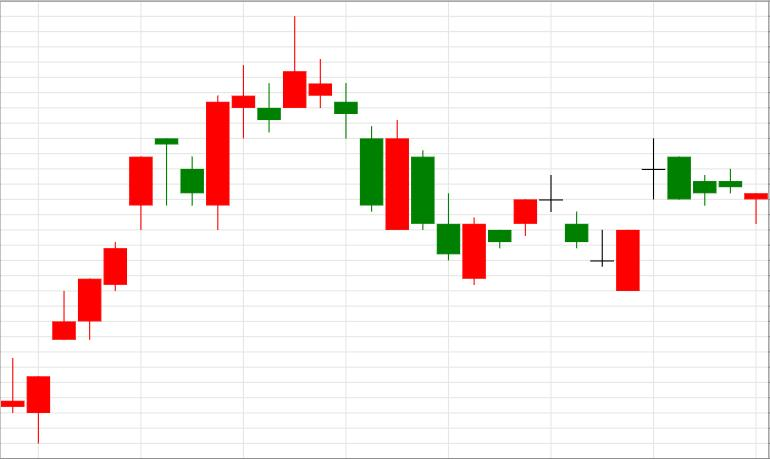evening_star_fall: (1, 138, 204, 444)
